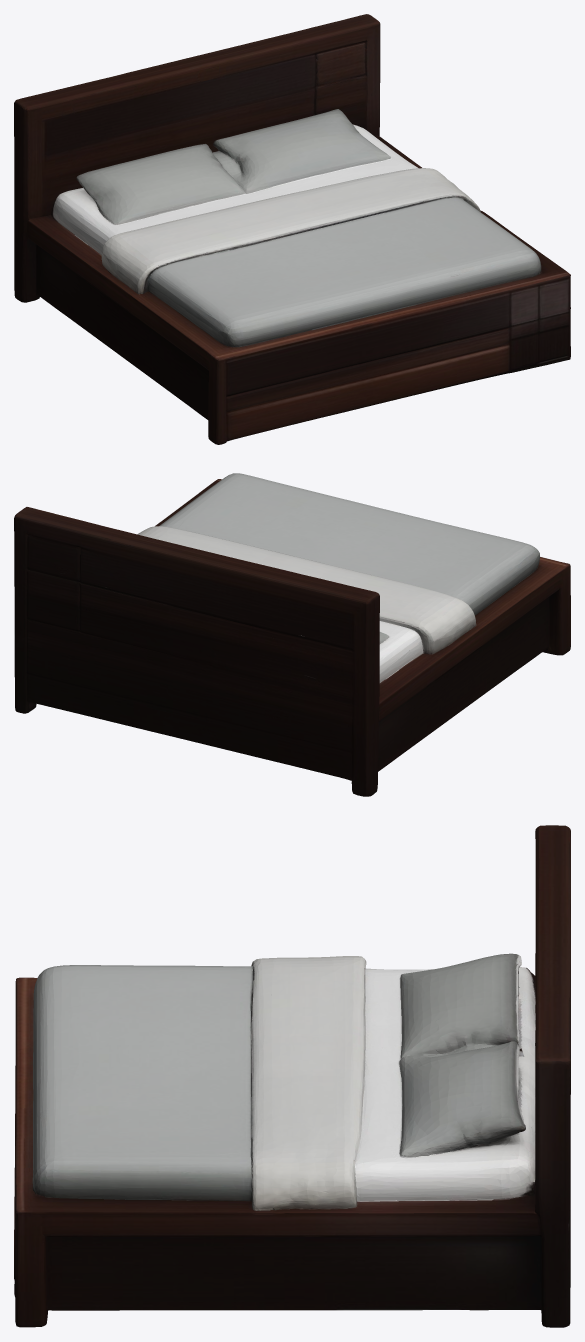
The picture shows the model from 3 angles, top to bottom: view 1: azimuth 30°, elevation 25°; view 2: azimuth 150°, elevation 25°; view 3: azimuth 270°, elevation 25°; orthographic projection. The views are drawn at different scales.
Visible parts, largest first — view 1: world; view 2: world; view 3: world.
Boxes of the visible parts, x1,y1,x2,y2 form: world: [14, 14, 570, 444]; world: [14, 473, 570, 796]; world: [14, 825, 570, 1327].
Size of the model in its own units: 2.21 by 1.17 by 2.2.
1 material, 1 textured.
